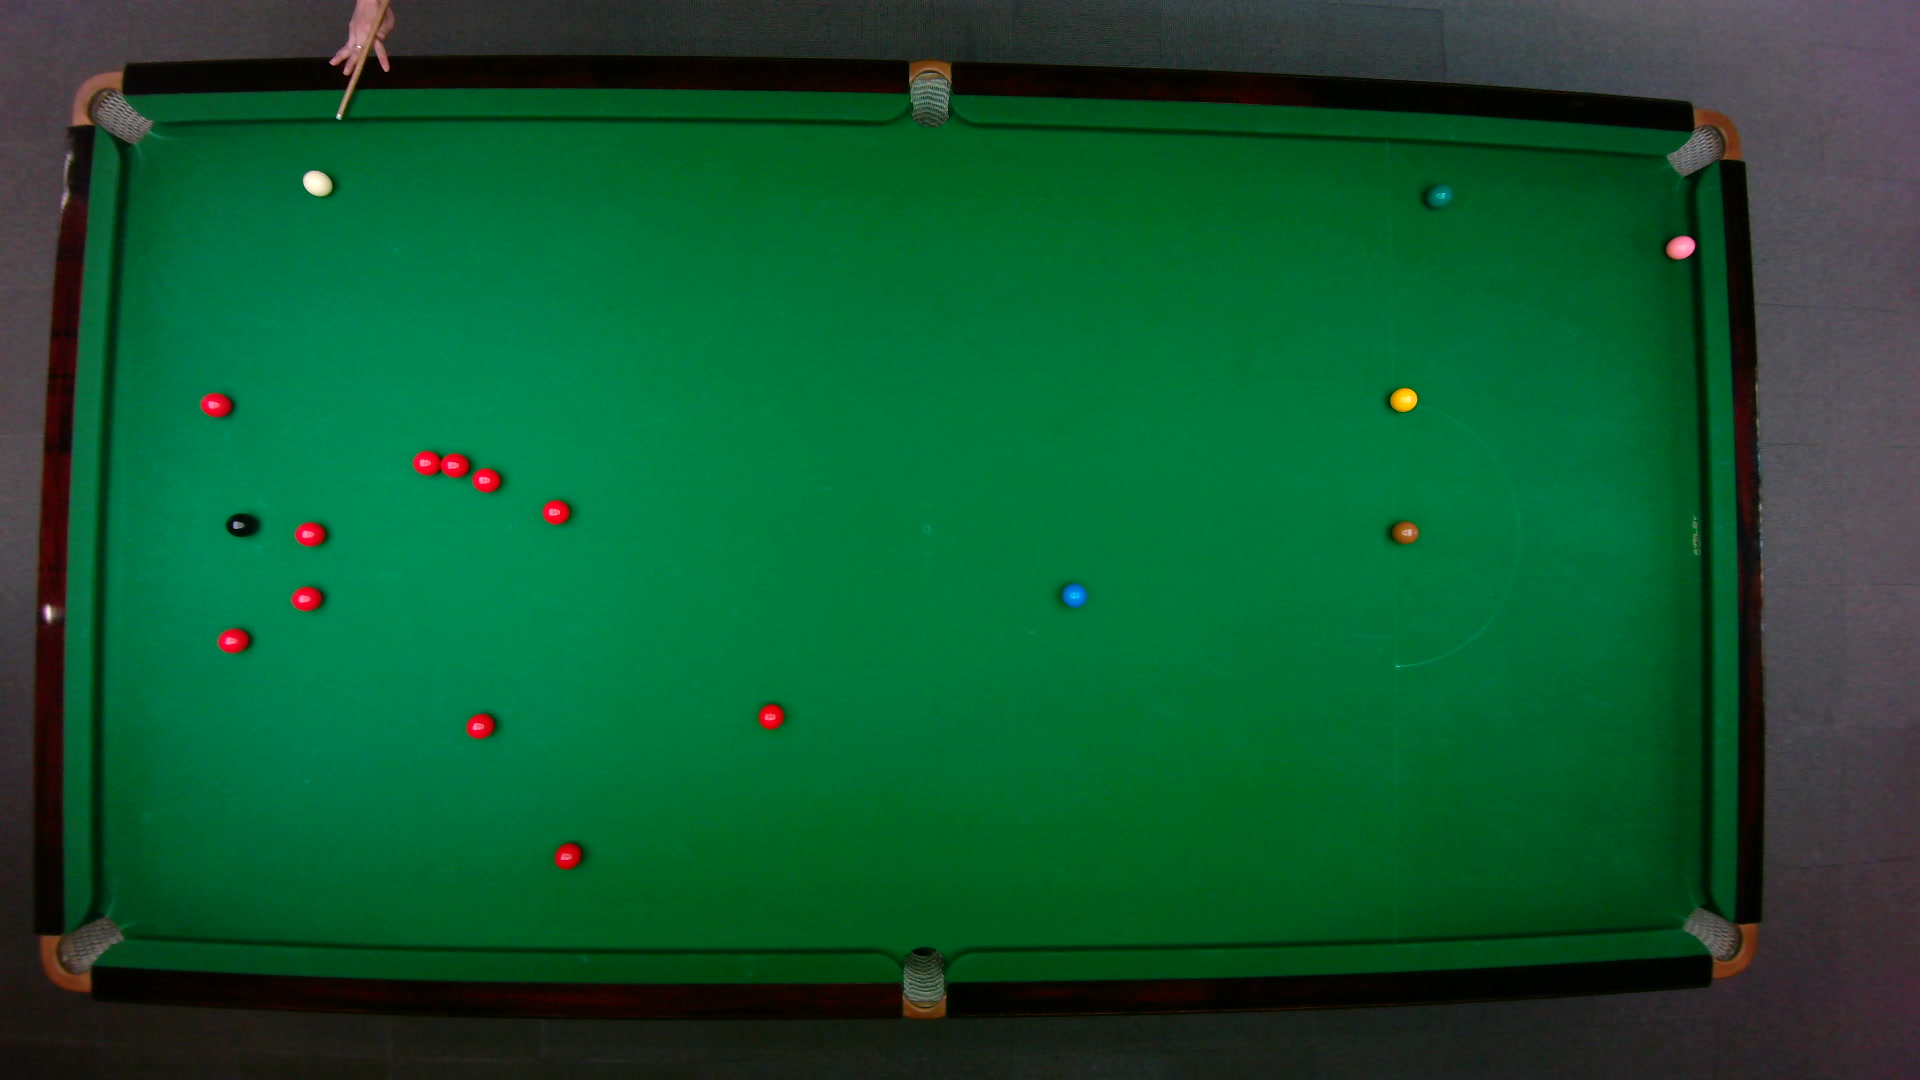bag: (38, 914, 125, 992), (69, 69, 154, 144), (1679, 905, 1756, 978), (1663, 107, 1741, 177), (901, 944, 944, 1021), (909, 57, 949, 128)
black: (223, 512, 256, 538)
blue: (1059, 580, 1087, 608)
brown: (1389, 520, 1419, 545)
cue: (330, 0, 393, 123)
green: (1422, 182, 1453, 208)
pink: (1663, 232, 1697, 260)
red: (215, 625, 251, 653), (551, 840, 583, 870), (291, 520, 326, 547), (287, 584, 323, 611), (463, 711, 496, 738), (198, 390, 232, 417), (469, 465, 501, 493), (756, 702, 785, 731), (439, 450, 469, 477), (409, 448, 440, 475), (541, 497, 570, 525)
white: (301, 167, 334, 196)
yellow: (1389, 385, 1418, 411)
zone: (1389, 400, 1520, 666)
